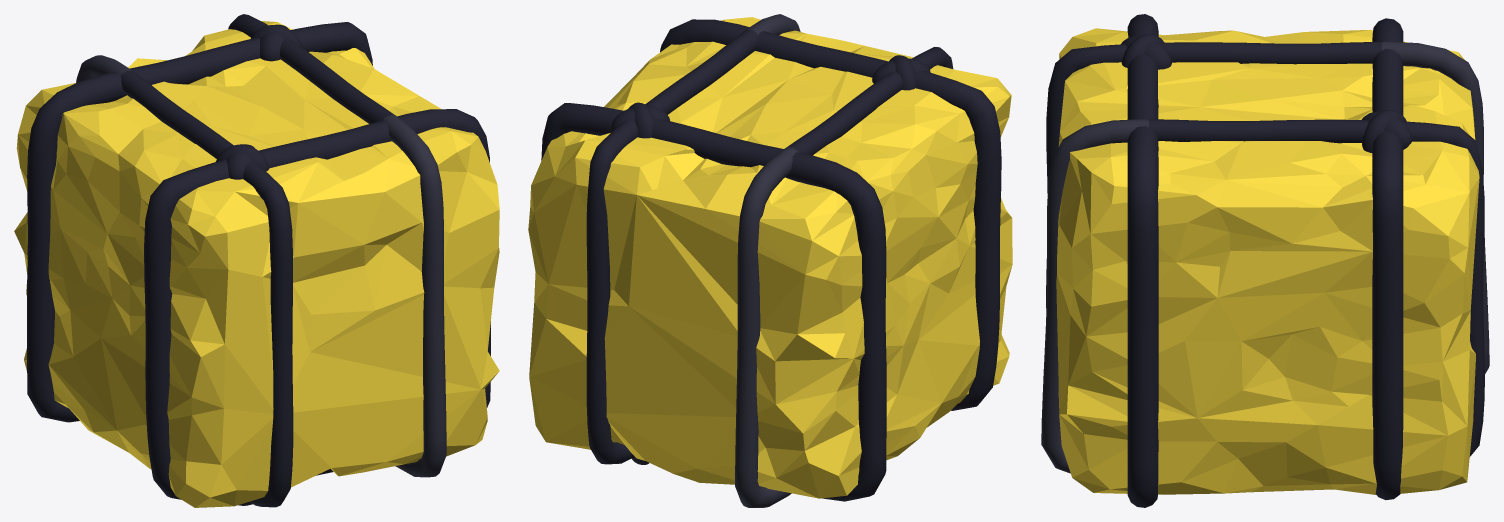
Rendered from fardo_Am.fbx.
The picture shows the model from 3 angles, left to right: view 1: azimuth 30°, elevation 25°; view 2: azimuth 150°, elevation 25°; view 3: azimuth 270°, elevation 25°; orthographic projection. The views are drawn at different scales.
Visible parts, largest first — view 1: fardo_Am; view 2: fardo_Am; view 3: fardo_Am.
Part boxes in pixels (<box>): fardo_Am: <box>14,14,499,507</box>; fardo_Am: <box>528,14,1012,507</box>; fardo_Am: <box>1041,14,1489,507</box>.
Size of the model in its own units: 189 by 189 by 203.
